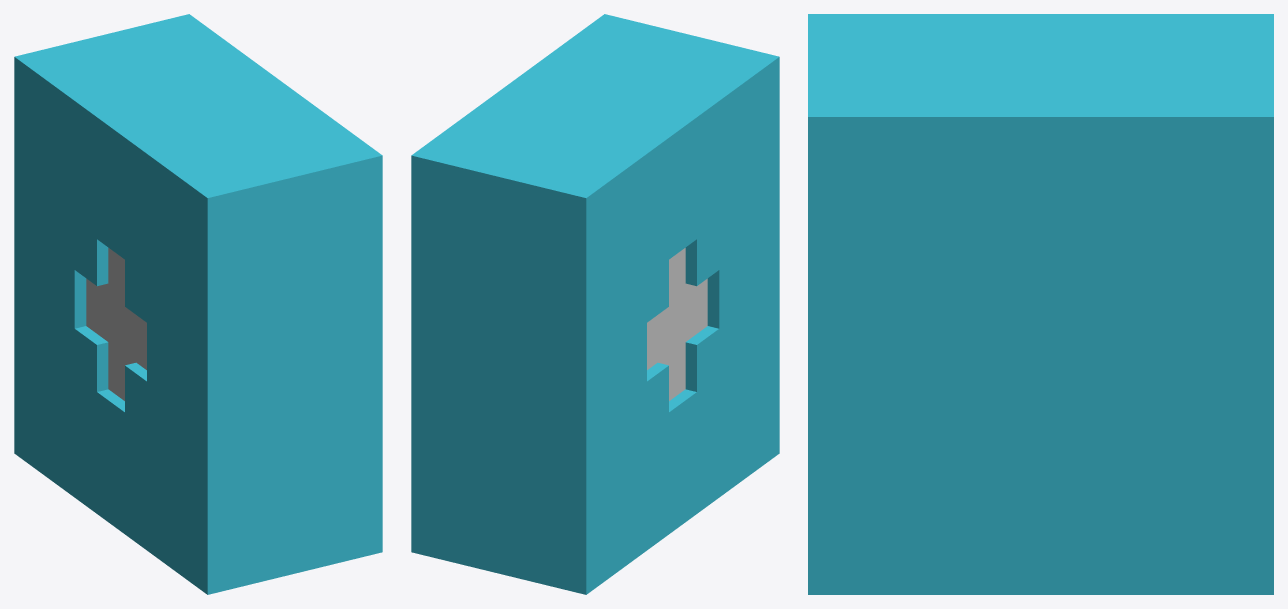
Rendered from potensiometer.fbx.
3 renders of one model, left to right at view 1: azimuth 30°, elevation 25°; view 2: azimuth 150°, elevation 25°; view 3: azimuth 270°, elevation 25°, orthographic. The views are drawn at different scales.
Visible parts, largest first — view 1: ImageToStl.com_resistor025w-1k0.002; view 2: ImageToStl.com_resistor025w-1k0.002; view 3: ImageToStl.com_resistor025w-1k0.002.
Boxes of the visible parts, box(x1,y1,x2,y2) form: ImageToStl.com_resistor025w-1k0.002: box(14, 14, 382, 594); ImageToStl.com_resistor025w-1k0.002: box(411, 14, 779, 594); ImageToStl.com_resistor025w-1k0.002: box(808, 14, 1273, 594).
Bounding box in the file's own units: 10.47 × 22.68 × 20.03.
